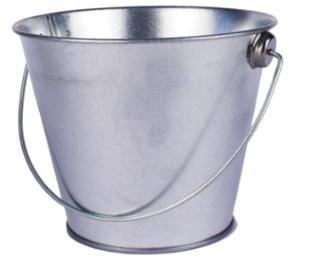SEAU: (4, 2, 324, 271)
